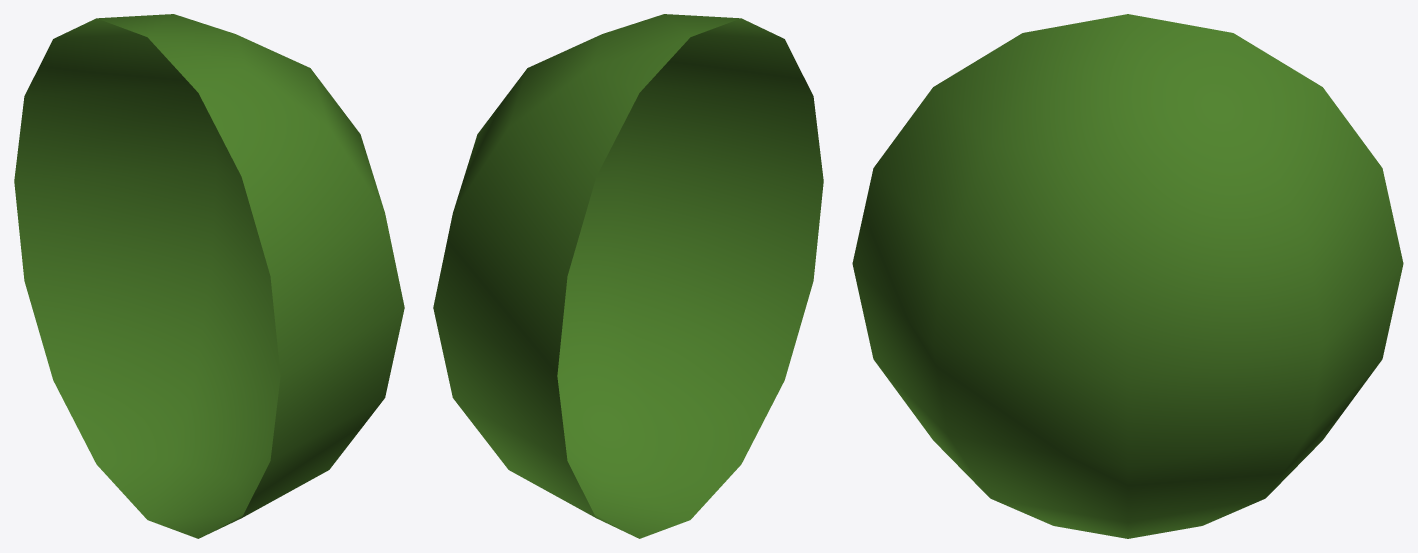
Rendered from green_button.glb.
3 views of the same model, side by side, from view 1: azimuth 30°, elevation 25°; view 2: azimuth 150°, elevation 25°; view 3: azimuth 270°, elevation 25° (orthographic). The views are drawn at different scales.
Visible parts, largest first — view 1: Sphere.001; view 2: Sphere.001; view 3: Sphere.001.
Part boxes in pixels (x1=…): Sphere.001: x1=14, y1=14, x2=404, y2=538; Sphere.001: x1=433, y1=14, x2=823, y2=538; Sphere.001: x1=852, y1=14, x2=1403, y2=538.
Size of the model in its own units: 0.025 by 0.05 by 0.05.
1 material, 1 textured.
